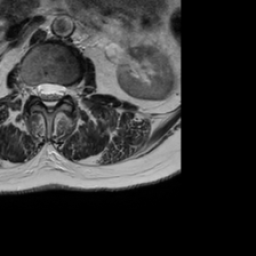CCS_normal: (44, 74, 54, 117)
LFS_normal: (64, 74, 74, 105)
LLS_normal: (54, 74, 65, 107)
RFS_normal: (26, 75, 36, 101)
RLS_normal: (36, 74, 44, 106)
